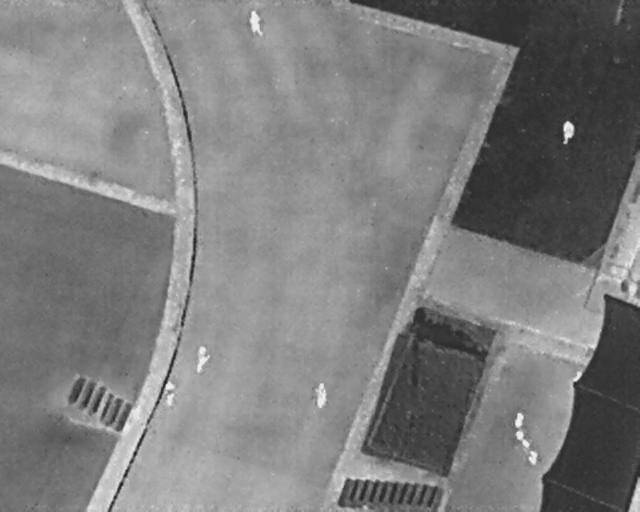Person: (245, 7, 266, 41), (191, 343, 212, 376), (159, 380, 177, 410), (561, 118, 576, 145), (313, 382, 329, 407), (570, 367, 586, 386)
